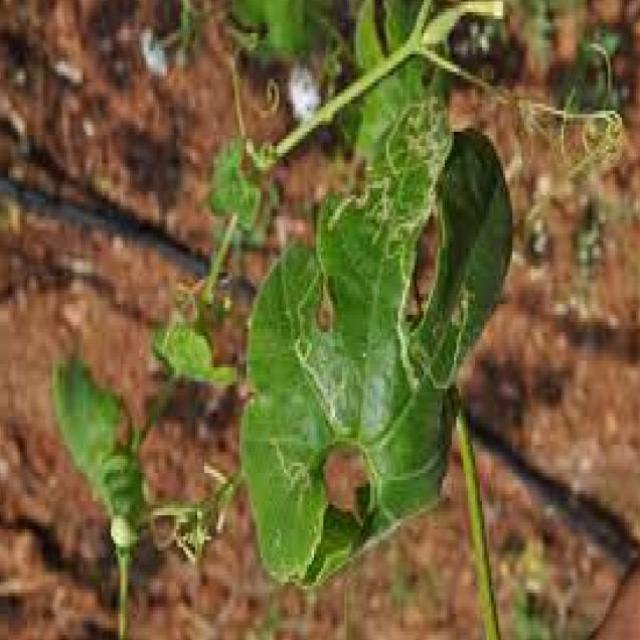Serpentine leafminer: (394, 288, 474, 401), (276, 294, 342, 418), (337, 192, 412, 276), (384, 98, 446, 192), (256, 433, 314, 503)
